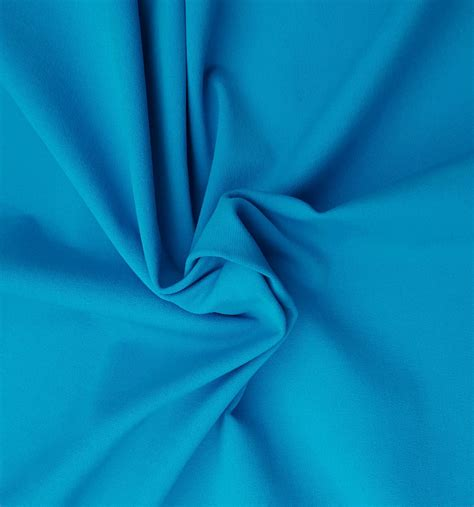nylon: (2, 1, 474, 507)
